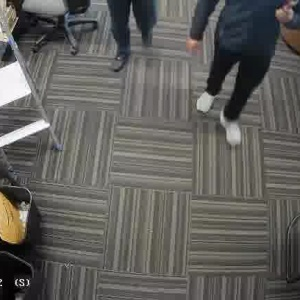person: (199, 0, 295, 151), (109, 0, 156, 78)
